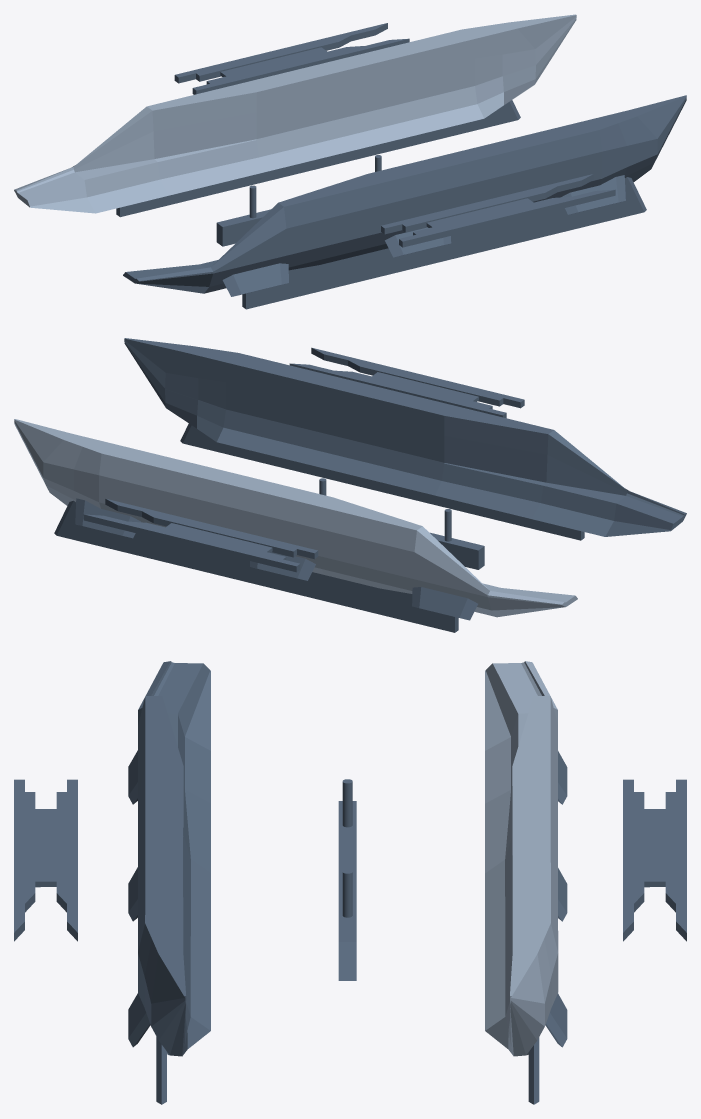
3 views of the same model, one above another, from view 1: azimuth 30°, elevation 25°; view 2: azimuth 150°, elevation 25°; view 3: azimuth 270°, elevation 25° (orthographic). The views are drawn at different scales.
Parts seen in each view (by area): view 1: 立方体.024, 立方体.015, 立方体.014, 立方体.005, 立方体.002, 立方体.020, 立方体.017, 円柱.004, 立方体.019, 立方体.018; view 2: 立方体.015, 立方体.024, 立方体.020, 立方体.002, 立方体.005, 立方体.014, 立方体.016, 円柱.004, 立方体.027, 立方体.026; view 3: 立方体.024, 立方体.015, 立方体.002, 立方体.005, 円柱.004, 立方体.019, 立方体.027, 立方体.020.
Part boxes in pixels (box(x1,y1,x2,y2)): 立方体.024: box(14, 14, 576, 213); 立方体.015: box(123, 95, 686, 293); 立方体.014: box(242, 177, 646, 309); 立方体.005: box(381, 174, 615, 247); 立方体.002: box(174, 23, 409, 94); 立方体.020: box(116, 100, 520, 217); 立方体.017: box(222, 263, 288, 296); 円柱.004: box(216, 155, 381, 246); 立方体.019: box(561, 175, 625, 214); 立方体.018: box(385, 227, 451, 257); 立方体.015: box(124, 338, 686, 536); 立方体.024: box(14, 419, 577, 617); 立方体.020: box(54, 500, 458, 632); 立方体.002: box(83, 498, 318, 572); 立方体.005: box(289, 347, 524, 418); 立方体.014: box(180, 423, 584, 540); 立方体.016: box(412, 587, 477, 620); 円柱.004: box(319, 478, 484, 569); 立方体.027: box(75, 498, 140, 538); 立方体.026: box(250, 552, 315, 580); 立方体.024: box(485, 661, 558, 1056); 立方体.015: box(138, 661, 210, 1056); 立方体.002: box(623, 779, 686, 941); 立方体.005: box(14, 779, 77, 941); 円柱.004: box(338, 779, 356, 980); 立方体.019: box(128, 993, 150, 1047); 立方体.027: box(545, 993, 567, 1047); 立方体.020: box(528, 1037, 539, 1104).
Size of the model in its own units: 8.26 by 1.38 by 5.88.
